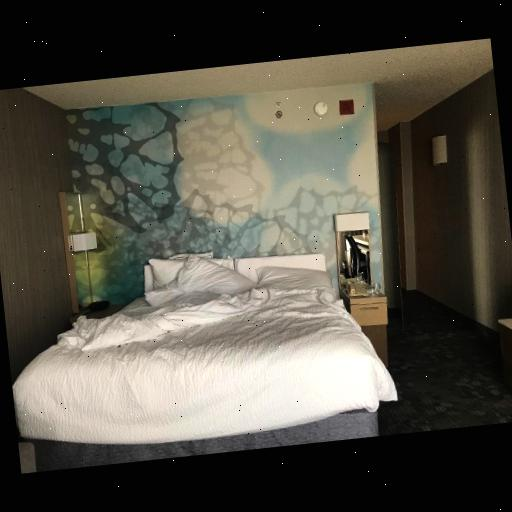Disorganized_pillow: (136, 239, 336, 318)
messy_bed: (13, 254, 398, 474)
